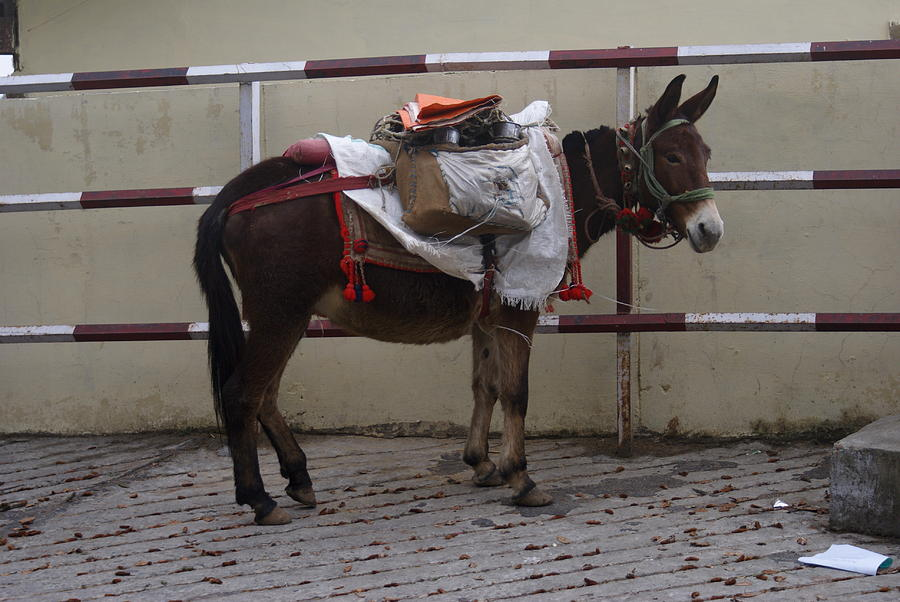equine: (168, 71, 750, 535)
